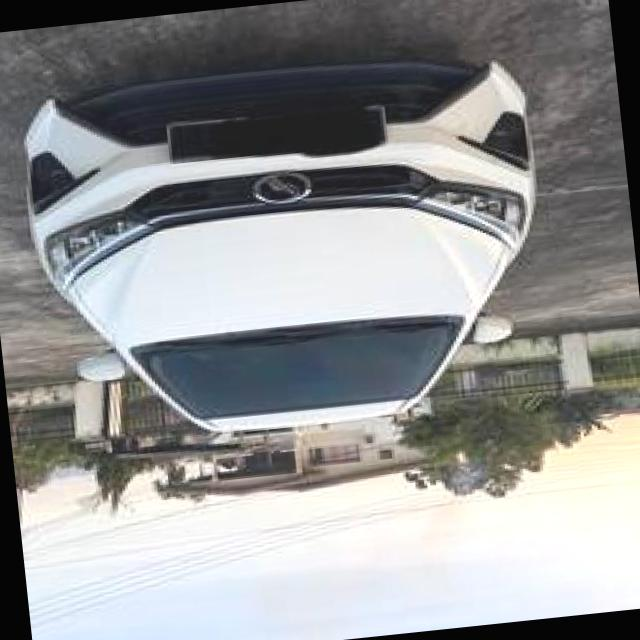PeroduaBezza: (16, 42, 561, 456)
